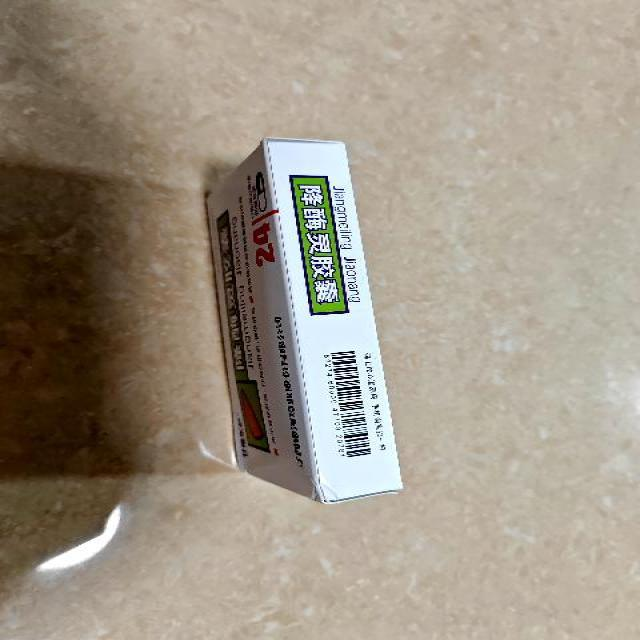box: (206, 135, 405, 505)
